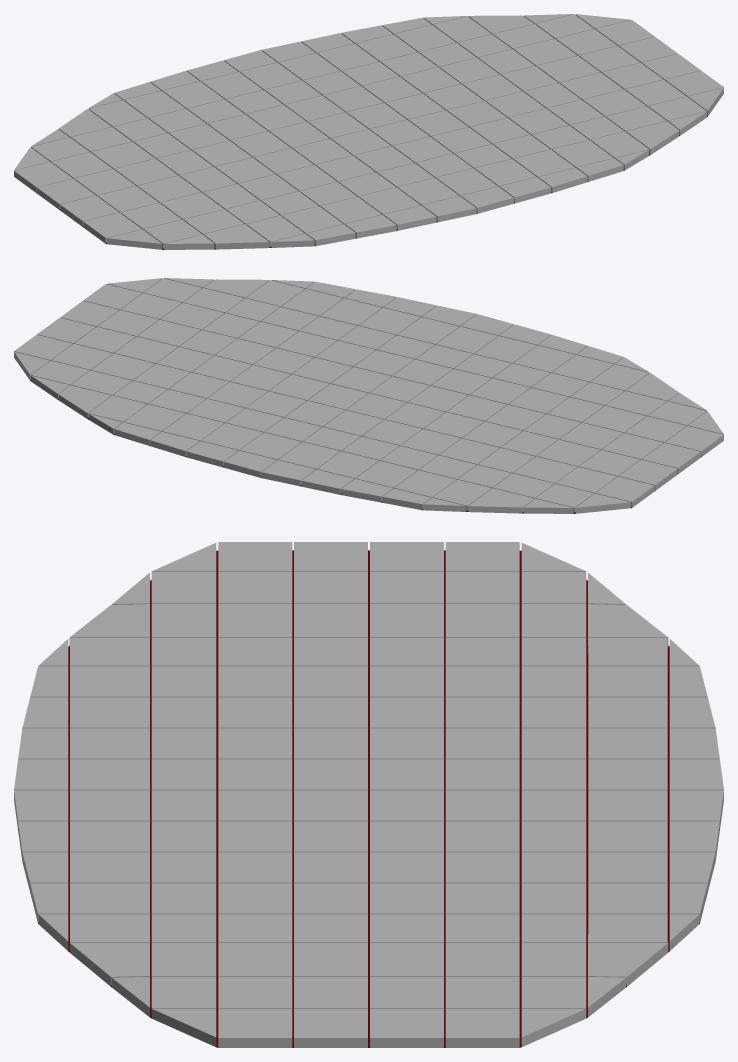
File: Arena_Floor_V2_UV.FBX
3 views of the same model, one above another, from view 1: azimuth 30°, elevation 25°; view 2: azimuth 150°, elevation 25°; view 3: azimuth 270°, elevation 25° (orthographic). The views are drawn at different scales.
Visible parts, largest first — view 1: Arena_TIles; view 2: Arena_TIles; view 3: Arena_TIles, Arena_cracks.
Part boxes in pixels (<box>): Arena_TIles: <box>14,14,723,249</box>; Arena_TIles: <box>14,278,723,513</box>; Arena_TIles: <box>14,542,723,1047</box>; Arena_cracks: <box>18,550,719,1047</box>.
Size of the model in its own units: 331 by 3.36 by 200.
